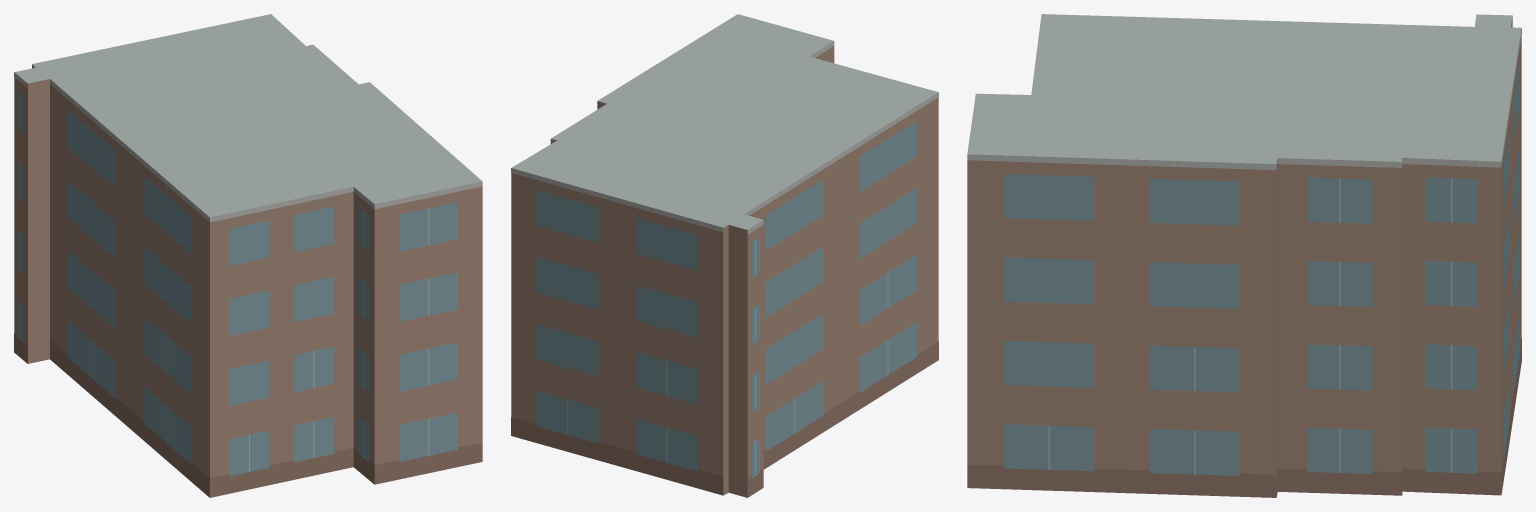
The model's file is survey-upis-32901710.glb.
3 views of the same model, side by side, from view 1: azimuth 30°, elevation 25°; view 2: azimuth 150°, elevation 25°; view 3: azimuth 270°, elevation 25° (orthographic). The views are drawn at different scales.
Parts seen in each view (by area): view 1: survey-upis-32901710.tmp; view 2: survey-upis-32901710.tmp; view 3: survey-upis-32901710.tmp.
Boxes of the visible parts, box(x1,y1,x2,y2) form: survey-upis-32901710.tmp: box(14, 14, 482, 497); survey-upis-32901710.tmp: box(511, 14, 938, 497); survey-upis-32901710.tmp: box(967, 14, 1521, 497).
Bounding box in the file's own units: 13.14 × 13.6 × 20.49.
